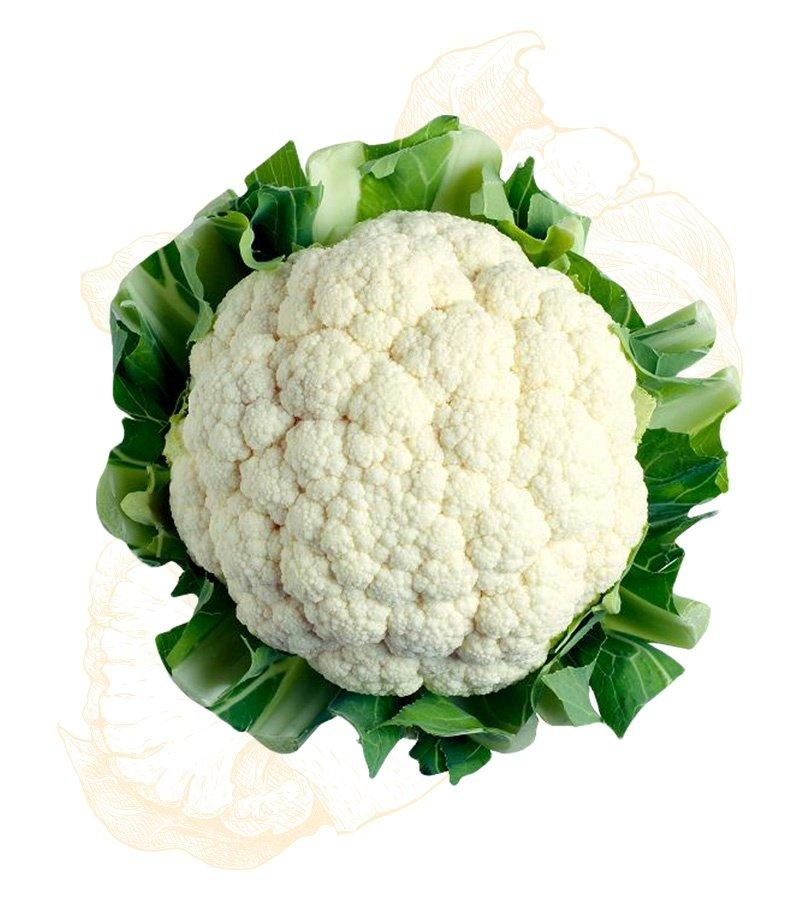cauliflower: (161, 206, 654, 700)
